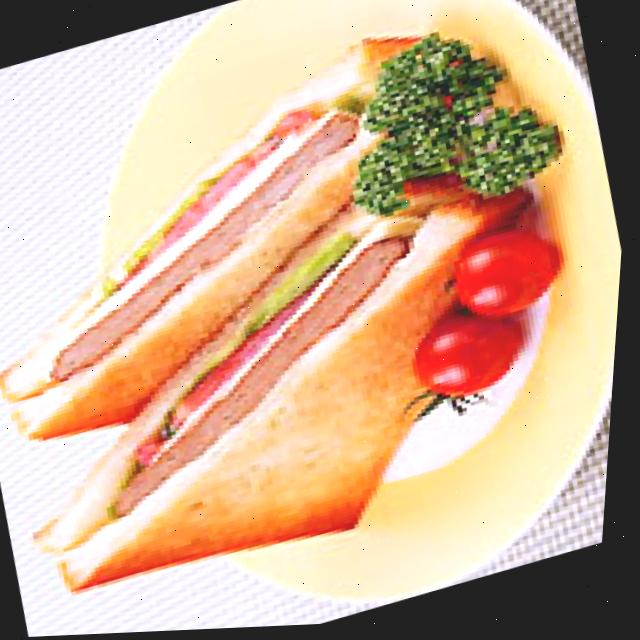三明治: (0, 4, 614, 628)
